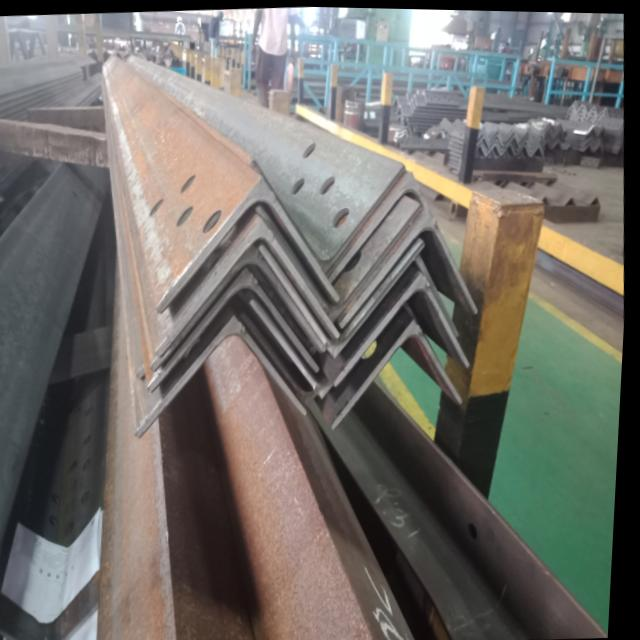metal-angles: (159, 175, 343, 314), (159, 217, 344, 355), (152, 267, 324, 393), (140, 314, 312, 437), (257, 201, 424, 321), (261, 238, 428, 356), (251, 160, 407, 274), (343, 205, 482, 327), (337, 270, 474, 386), (336, 317, 467, 428)
